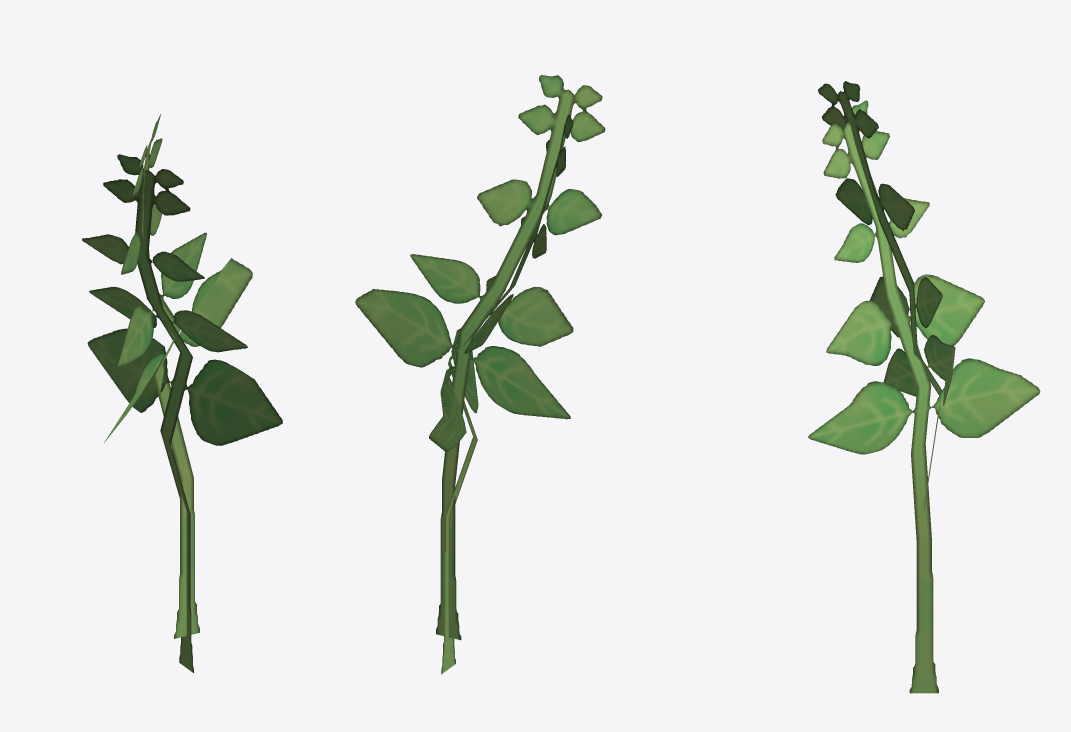
The model's file is LeafSetB_9.fbx.
3 renders of one model, left to right at view 1: azimuth 30°, elevation 25°; view 2: azimuth 150°, elevation 25°; view 3: azimuth 270°, elevation 25°, orthographic. The views are drawn at different scales.
Visible parts, largest first — view 1: LeafSetB_9; view 2: LeafSetB_9; view 3: LeafSetB_9.
Boxes of the visible parts, x1=… form: LeafSetB_9: x1=82, y1=114, x2=282, y2=672; LeafSetB_9: x1=355, y1=75, x2=605, y2=674; LeafSetB_9: x1=808, y1=81, x2=1040, y2=693.
Size of the model in its own units: 0.3539 by 0.7866 by 0.3558.
